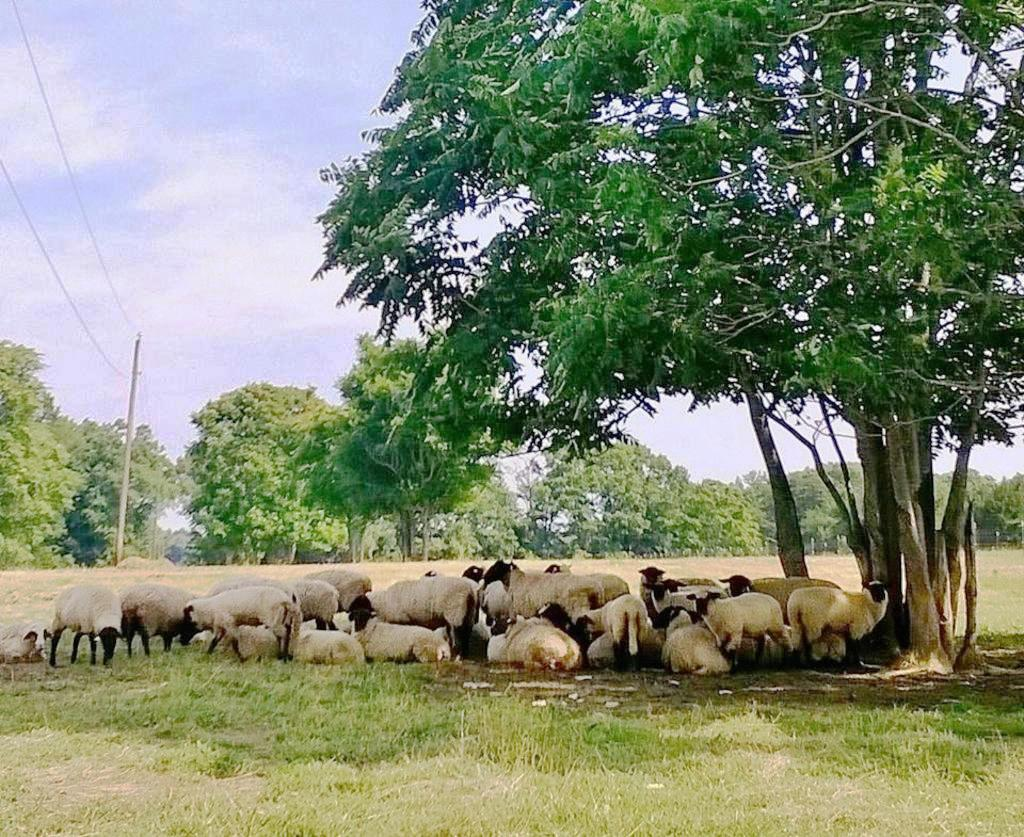Sheep: (791, 579, 905, 680), (180, 588, 300, 668), (482, 604, 592, 685), (686, 591, 794, 670), (206, 564, 339, 625), (118, 570, 198, 671), (346, 599, 452, 674), (480, 554, 604, 618), (362, 570, 476, 635), (645, 606, 729, 689), (50, 586, 123, 666), (578, 592, 652, 669), (728, 558, 834, 607), (636, 554, 730, 606), (292, 628, 366, 685), (0, 611, 48, 676)
